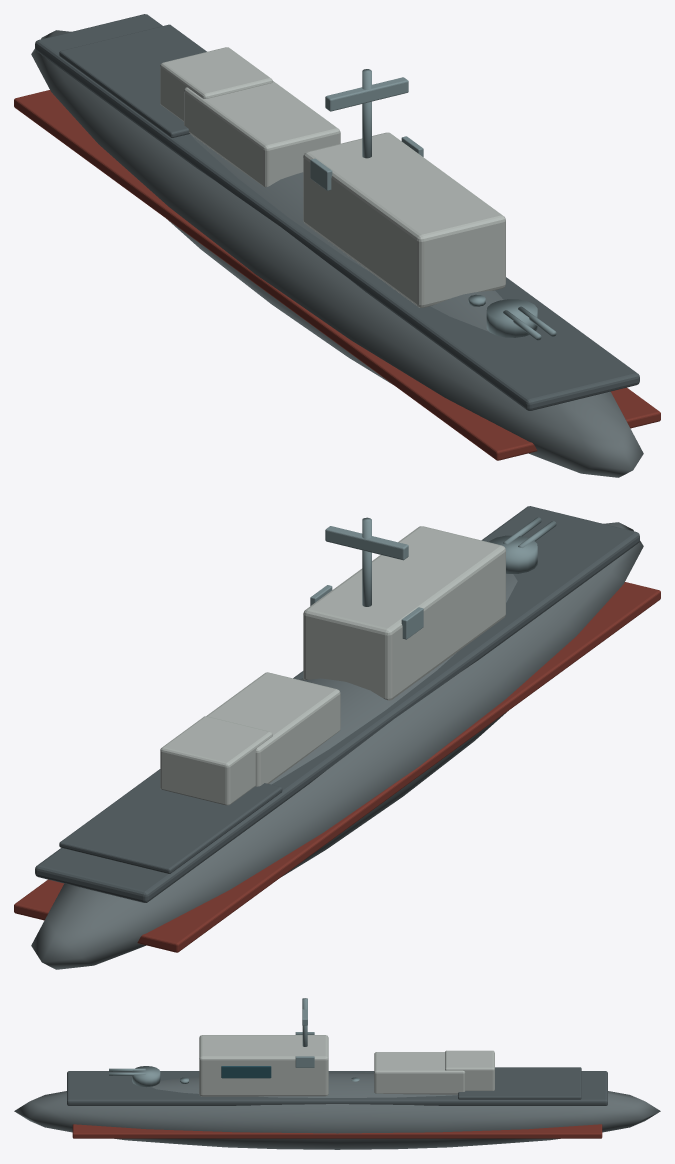
Rendered from destroyer-lod2.glb.
The picture shows the model from 3 angles, top to bottom: view 1: azimuth 30°, elevation 25°; view 2: azimuth 150°, elevation 25°; view 3: azimuth 270°, elevation 25°; orthographic projection. The views are drawn at different scales.
Visible parts, largest first — view 1: destroyer-hull, forward-superstructure, destroyer-deck, destroyer-waterline, aft-superstructure, aft-flight-deck, stern-hangar, forward-gun-turret, main-radar-array, main-radar-mast; view 2: destroyer-hull, forward-superstructure, destroyer-deck, destroyer-waterline, aft-flight-deck, aft-superstructure, stern-hangar, main-radar-array, forward-gun-turret, main-radar-mast; view 3: destroyer-hull, destroyer-deck, forward-superstructure, destroyer-waterline, aft-superstructure, aft-flight-deck, stern-hangar, bridge-window-band, forward-gun-turret.
Part boxes in pixels (box(x1,y1,x2,y2)): destroyer-hull: box(31, 30, 643, 477); forward-superstructure: box(303, 132, 505, 307); destroyer-deck: box(35, 14, 639, 410); destroyer-waterline: box(14, 90, 660, 460); aft-superstructure: box(184, 81, 340, 187); aft-flight-deck: box(59, 24, 206, 137); stern-hangar: box(160, 47, 272, 121); forward-gun-turret: box(486, 299, 537, 337); main-radar-array: box(325, 77, 408, 111); main-radar-mast: box(362, 69, 371, 158); destroyer-hull: box(31, 522, 643, 969); forward-superstructure: box(303, 526, 505, 700); destroyer-deck: box(35, 506, 639, 902); destroyer-waterline: box(14, 582, 660, 952); aft-flight-deck: box(59, 769, 282, 873); aft-superstructure: box(206, 672, 340, 786); stern-hangar: box(160, 716, 272, 805); main-radar-array: box(325, 526, 408, 560); forward-gun-turret: box(489, 535, 537, 573); main-radar-mast: box(362, 517, 371, 606); destroyer-hull: box(14, 1072, 660, 1149); destroyer-deck: box(67, 1071, 607, 1105); forward-superstructure: box(199, 1035, 328, 1096); destroyer-waterline: box(72, 1124, 602, 1138); aft-superstructure: box(374, 1052, 465, 1094); aft-flight-deck: box(458, 1067, 581, 1099); stern-hangar: box(445, 1050, 494, 1090); bridge-window-band: box(221, 1066, 271, 1078); forward-gun-turret: box(132, 1066, 160, 1087).
Size of the model in its own units: 3.54 by 5.4 by 22.
